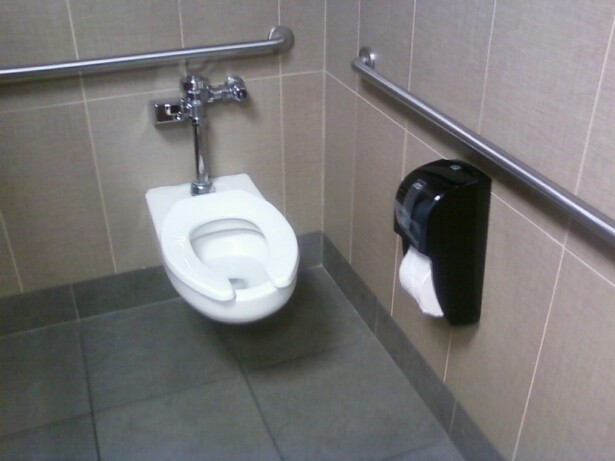dispenser: (390, 158, 493, 328)
restroom_assist_bar: (340, 44, 615, 270), (1, 19, 298, 90)
toilet: (144, 173, 302, 323)
